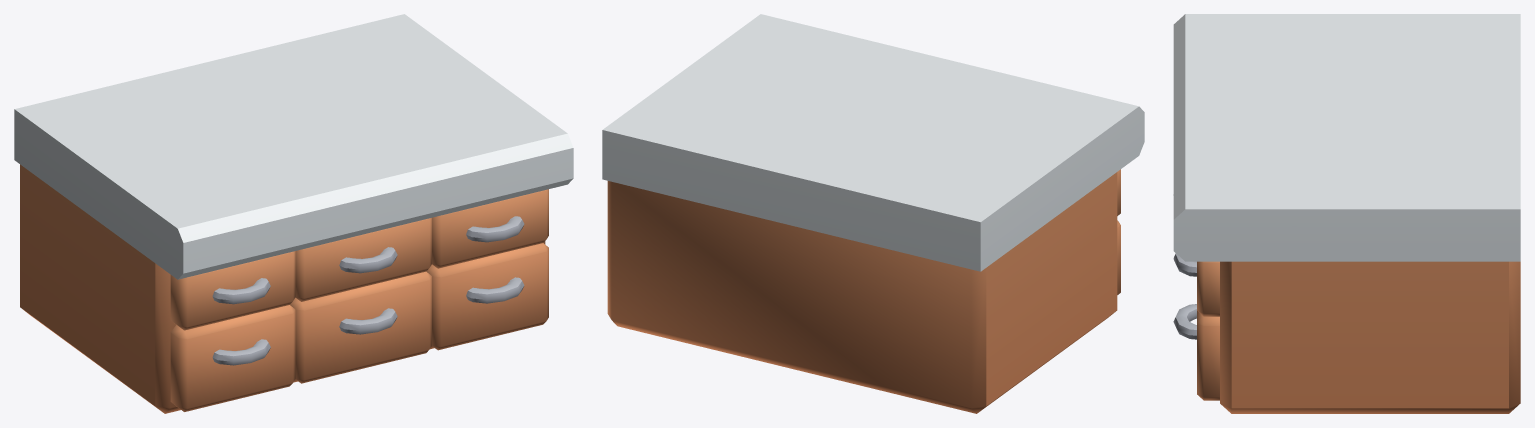
File: Countertop Straight.glb
3 views of the same model, side by side, from view 1: azimuth 30°, elevation 25°; view 2: azimuth 150°, elevation 25°; view 3: azimuth 270°, elevation 25° (orthographic). The views are drawn at different scales.
Visible parts, largest first — view 1: countertop_straight_C; view 2: countertop_straight_C; view 3: countertop_straight_C.
Boxes of the visible parts, x1,y1,x2,y2 form: countertop_straight_C: (14, 14, 573, 413); countertop_straight_C: (602, 14, 1144, 413); countertop_straight_C: (1173, 14, 1520, 413).
Bounding box in the file's own units: 2 × 1 × 1.5.
1 material, 1 textured.
